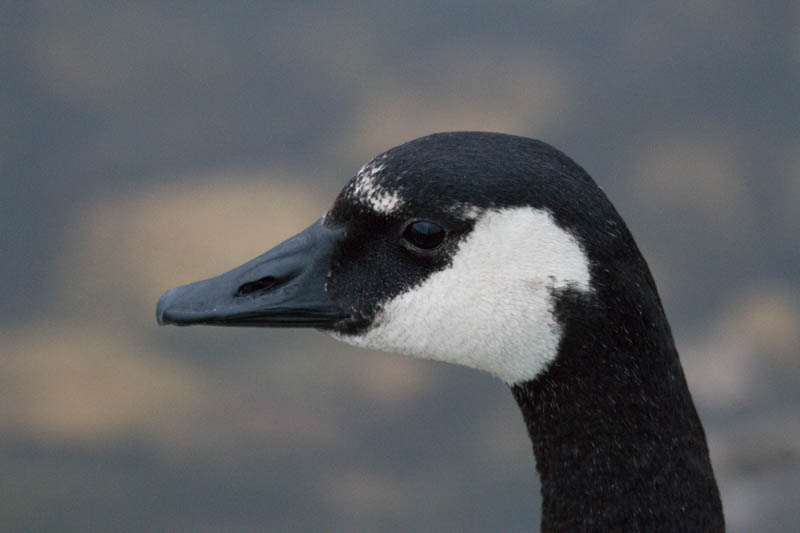goose-head: (154, 130, 639, 397)
